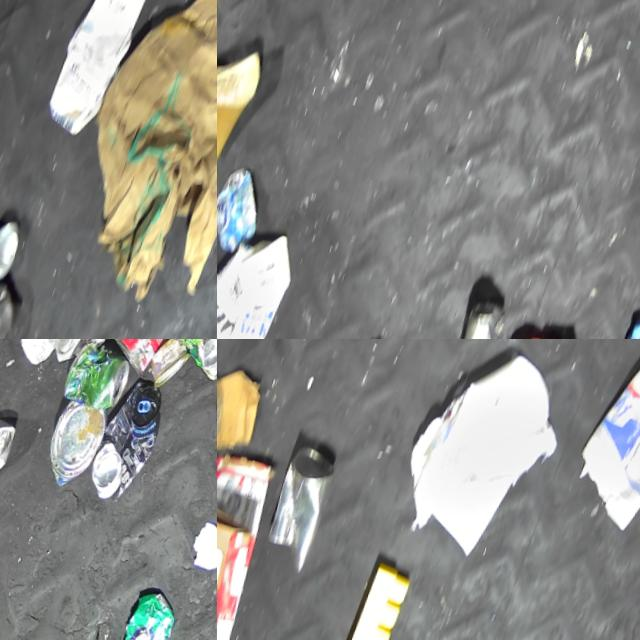can: (262, 431, 352, 578), (86, 367, 178, 506), (41, 390, 117, 491), (217, 158, 281, 268), (64, 339, 142, 412), (442, 276, 527, 339), (115, 578, 191, 640), (107, 339, 208, 378), (0, 203, 34, 295), (146, 339, 200, 387), (49, 339, 126, 371), (217, 203, 236, 318), (0, 407, 25, 494), (172, 339, 217, 375)
non_white_jug: (0, 260, 34, 339)
